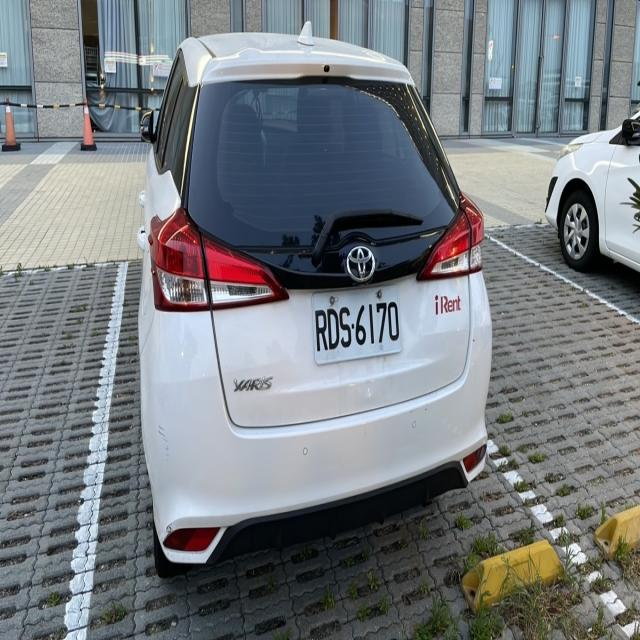license plate: (312, 286, 402, 364)
